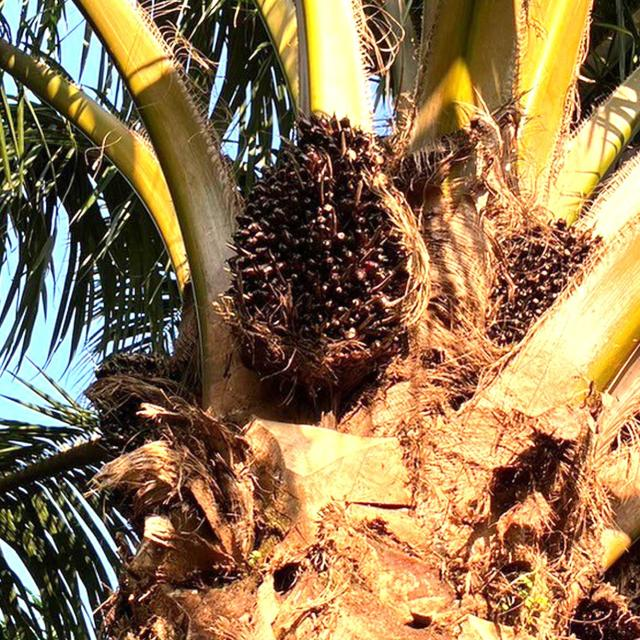almost: (204, 104, 434, 404)
